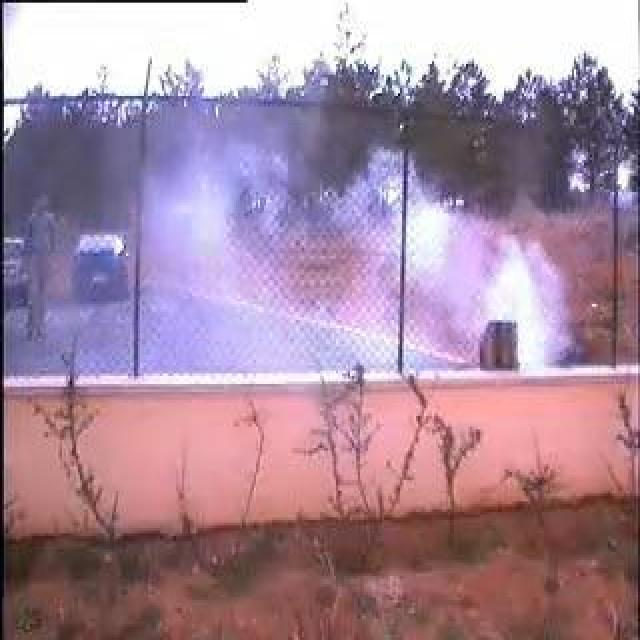Smoke: (147, 115, 547, 360)
